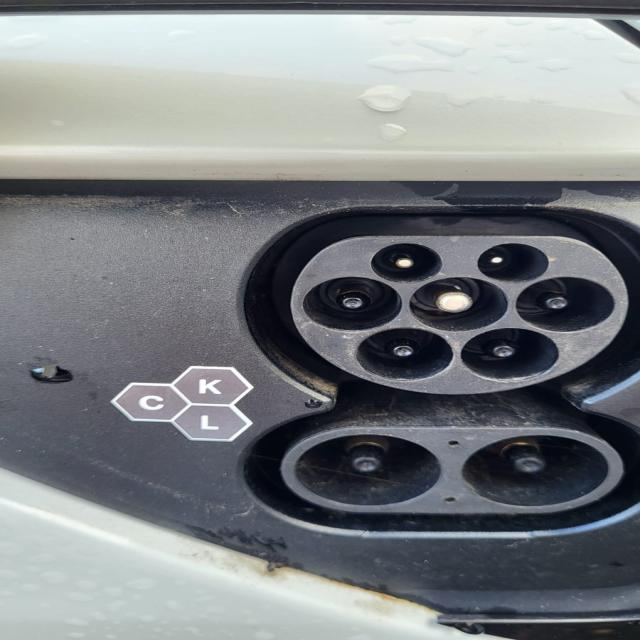inlet: (290, 236, 630, 395)
inlet-above-left: (372, 242, 444, 283)
inlet-above-right: (478, 243, 549, 283)
inlet-below-left: (355, 328, 454, 380)
inlet-below-right: (461, 327, 559, 382)
inlet-circle: (409, 277, 508, 333)
inlet-circle-left: (303, 276, 402, 331)
inlet-circle-right: (517, 277, 616, 334)
inlet-minus: (462, 434, 609, 507)
inlet-plus: (294, 434, 442, 506)
